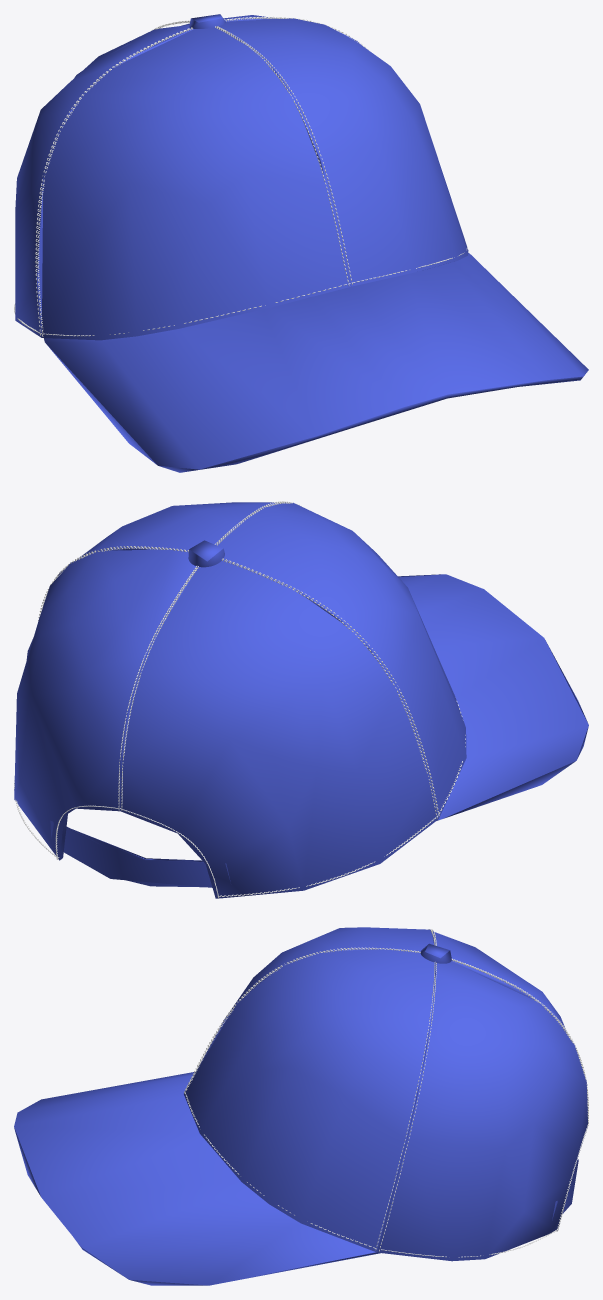
Rendered from cap.glb.
The picture shows the model from 3 angles, top to bottom: view 1: azimuth 30°, elevation 25°; view 2: azimuth 150°, elevation 25°; view 3: azimuth 270°, elevation 25°; orthographic projection. The views are drawn at different scales.
Parts seen in each view (by area): view 1: BODY, STITCHES; view 2: BODY, STITCHES; view 3: BODY, STITCHES.
Boxes of the visible parts, x1=… form: BODY: x1=15, y1=14, x2=588, y2=472; STITCHES: x1=14, y1=16, x2=467, y2=336; BODY: x1=14, y1=502, x2=588, y2=898; STITCHES: x1=14, y1=501, x2=465, y2=898; BODY: x1=14, y1=927, x2=588, y2=1285; STITCHES: x1=184, y1=929, x2=588, y2=1257.
Bounding box in the file's own units: 435 × 280 × 585.
